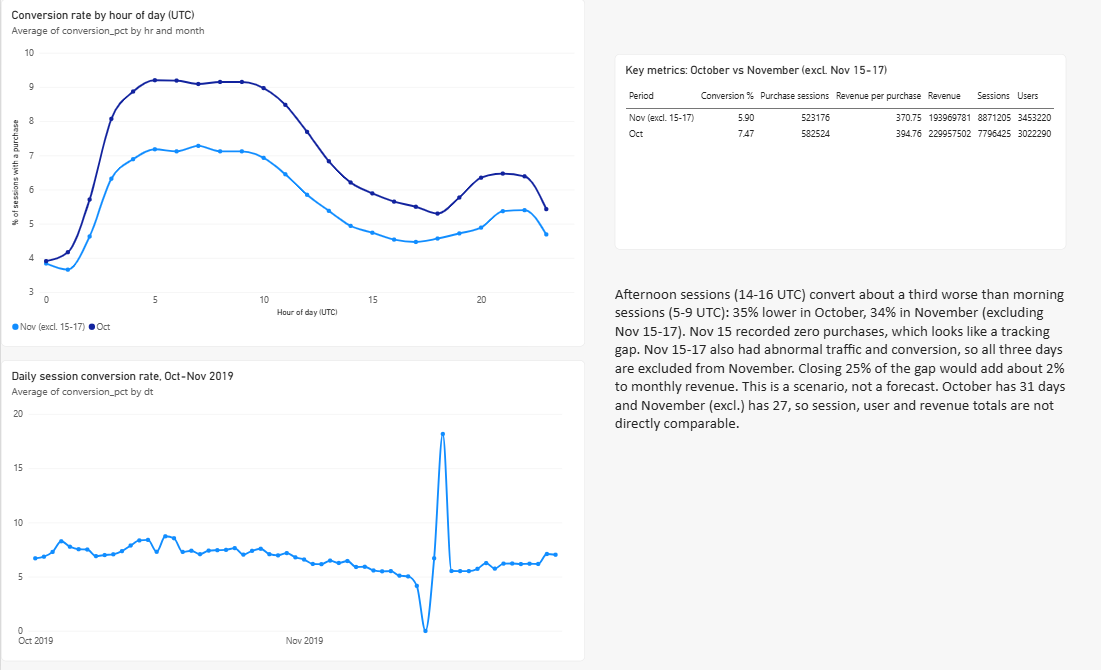

The page's visual inventory and layout, read from the dashboard file:
{"tool":"powerbi","page":{"name":"Page 1","canvas":[1920,1080],"ordinal":0},"visuals":[{"type":"lineChart","title":"Conversion rate by hour of day (UTC)","fields":{"Category":["hourly_conversion.hr"],"Series":["hourly_conversion.month"],"Y":["Avg(hourly_conversion.conversion_pct)"]},"box":[0,0,934.5,555.7],"z":0},{"type":"lineChart","title":"Daily session conversion rate, Oct-Nov 2019","fields":{"Category":["daily_conversion.dt"],"Y":["Avg(daily_conversion.conversion_pct)"]},"box":[0,578.4,934.5,481.6],"z":1000},{"type":"tableEx","title":"Key metrics: October vs November (excl. Nov 15-17)","fields":{"Values":["kpis.period","Avg(kpis.conversion_pct)","Sum(kpis.purchase_sessions)","Avg(kpis.rev_per_purchase)","Sum(kpis.revenue)","Sum(kpis.sessions)","Sum(kpis.users)"]},"box":[981.8,88.5,722.5,312.9],"z":1001},{"type":"textbox","box":[0,861,532,219],"z":1002},{"type":"textbox","box":[981.8,456.9,722.5,242.9],"z":1003}]}

Visuals, with their boxes on the page's 1920x1080 design canvas (x1, y1, x2, y2). These are canvas units, not pixel positions in the 1101x670 screenshot, which may show the page scaled, cropped or inside an application window:
"Conversion rate by hour of day (UTC)" lineChart: 0/0/934/556
"Daily session conversion rate, Oct-Nov 2019" lineChart: 0/578/934/1060
"Key metrics: October vs November (excl. Nov 15-17)" tableEx: 982/88/1704/401
textbox: 0/861/532/1080
textbox: 982/457/1704/700
